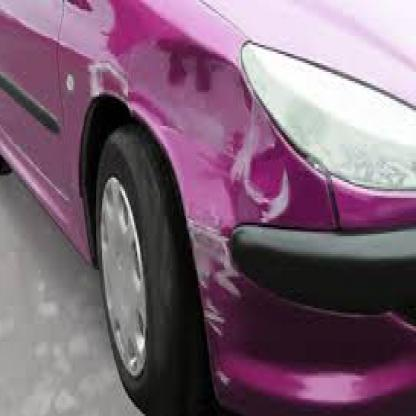dent: (131, 34, 244, 140)
